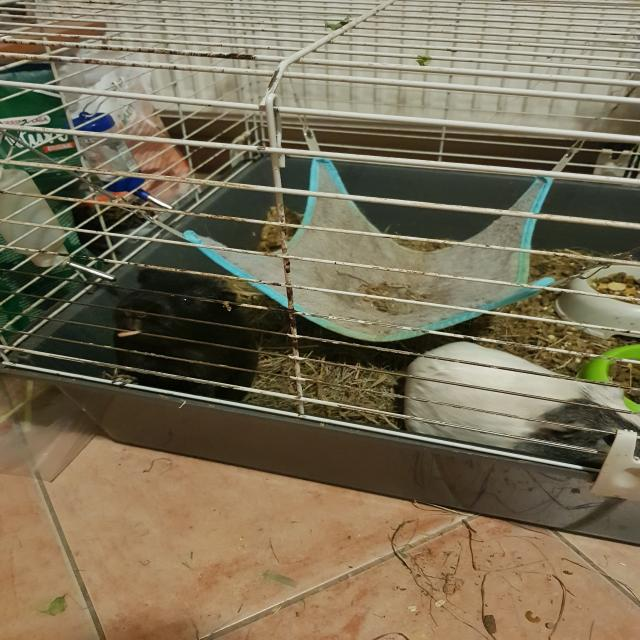guinea pig: (399, 338, 640, 476), (109, 264, 258, 406)
